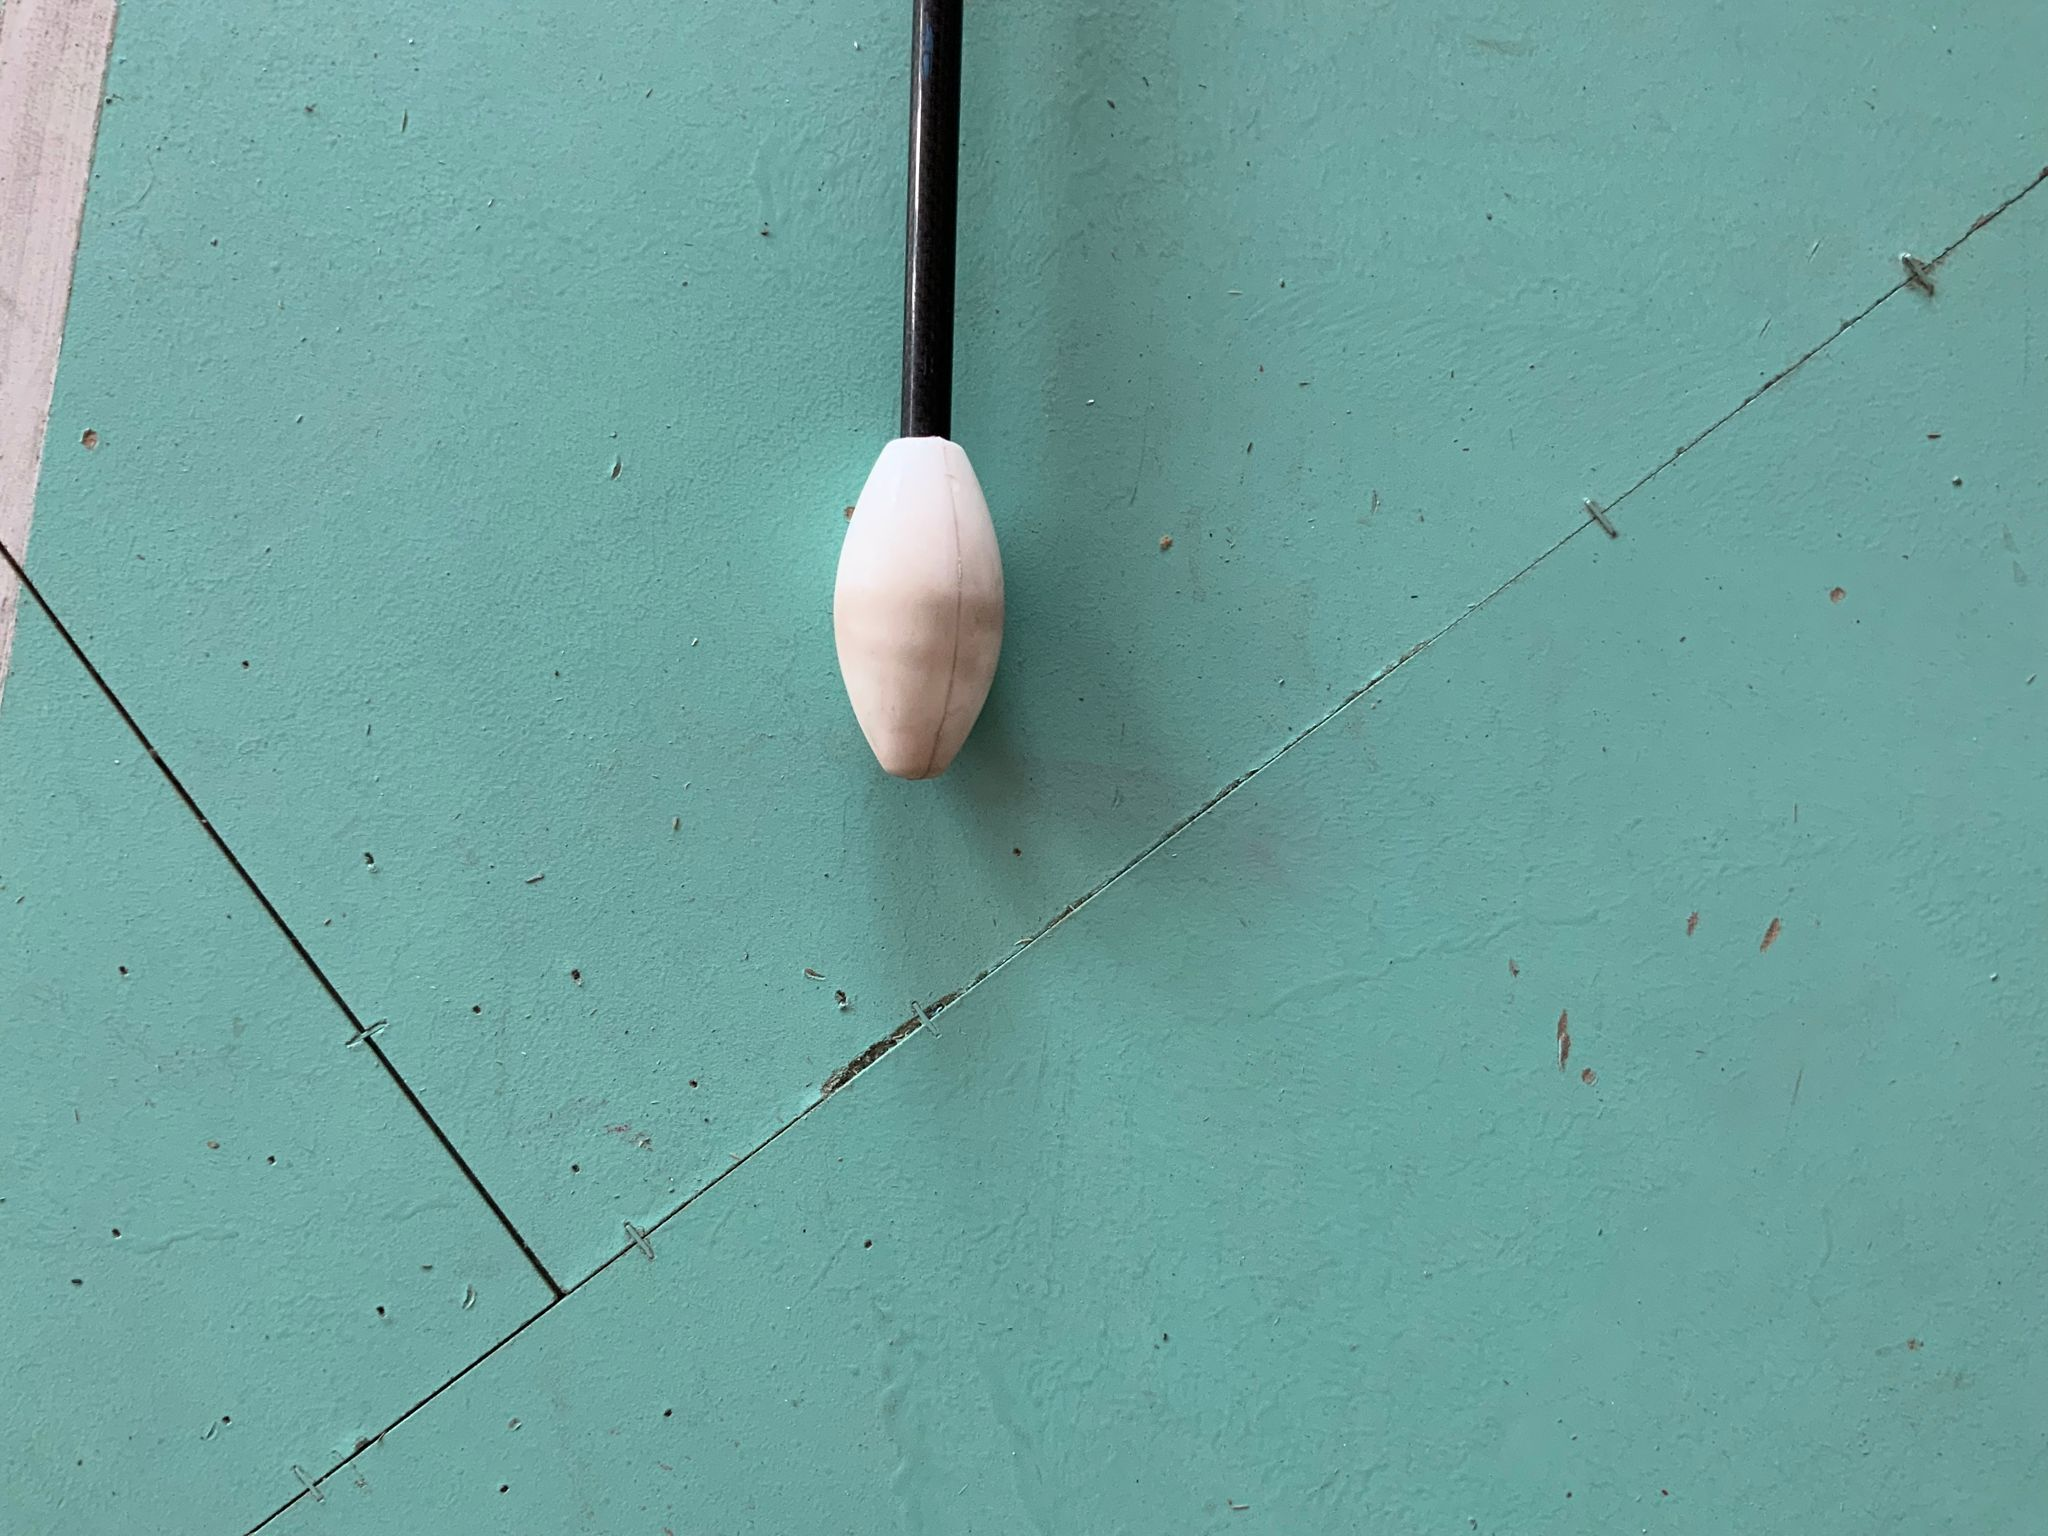arrowFront: (827, 431, 1009, 784)
